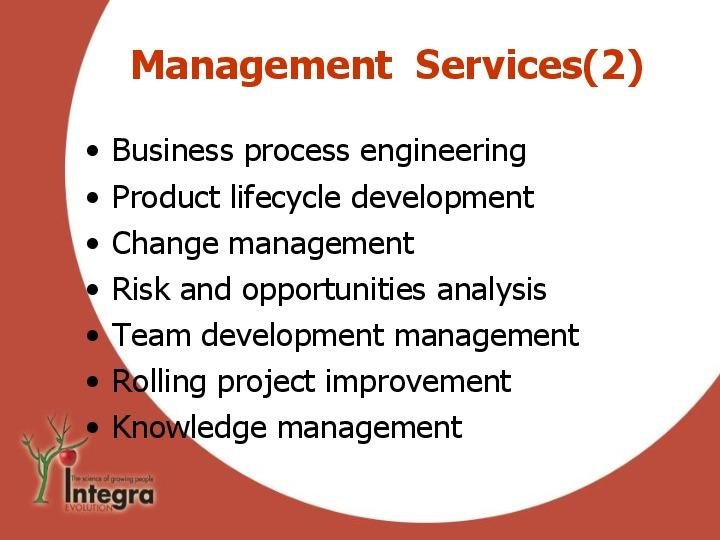paragraph: (75, 123, 626, 458)
title: (117, 27, 654, 98)
